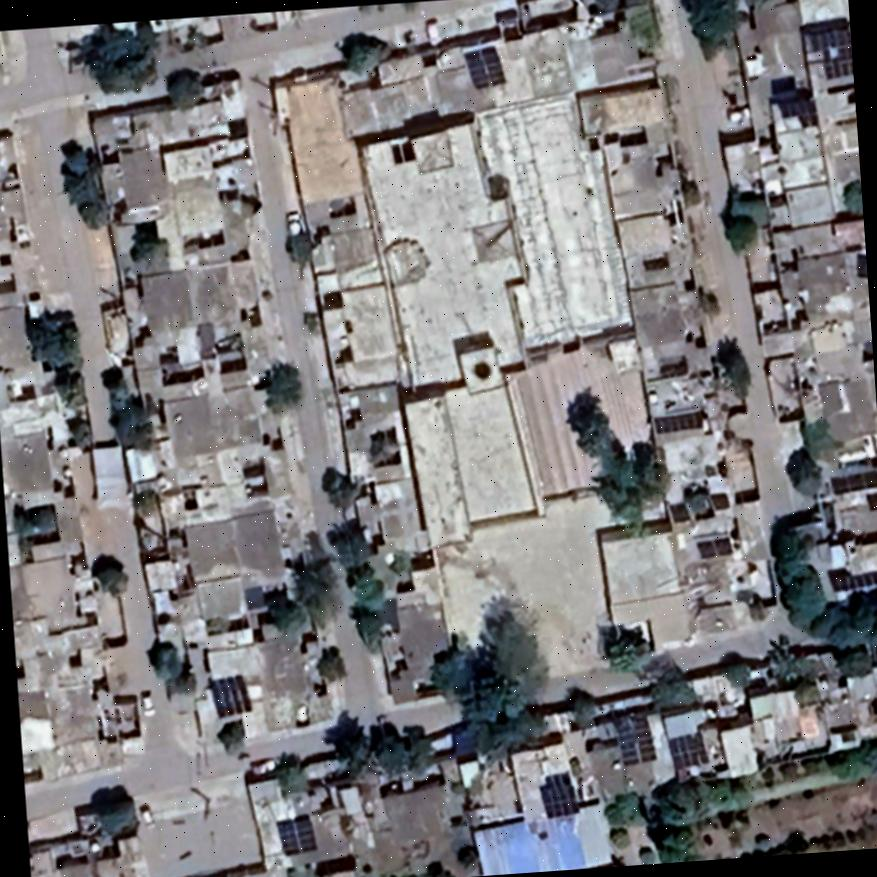Solarpanel: (794, 15, 850, 81), (604, 709, 661, 770), (531, 766, 585, 823), (455, 39, 512, 93), (819, 464, 877, 515), (203, 669, 255, 720), (268, 810, 321, 859), (644, 404, 714, 437), (663, 727, 711, 771), (689, 531, 737, 560)
